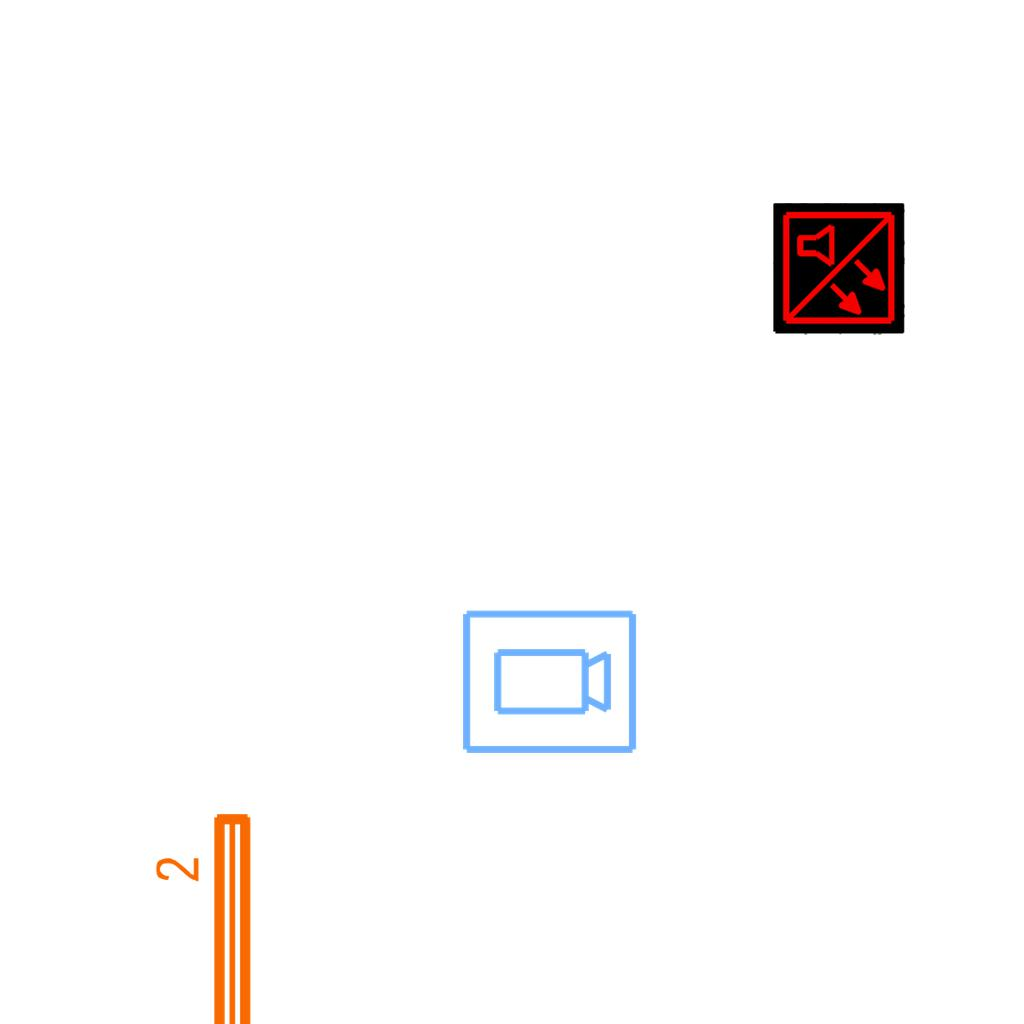Ambulanz_Pendelleuchte_LED: (151, 805, 263, 1024)
KFO_Kamera_mit_Festobjektiv: (458, 606, 640, 760)
OKW_Multisensormelder_(Kombination_optischer_Rauch-Kahlenmonoxid_Waerme-Melder): (773, 203, 905, 335)
